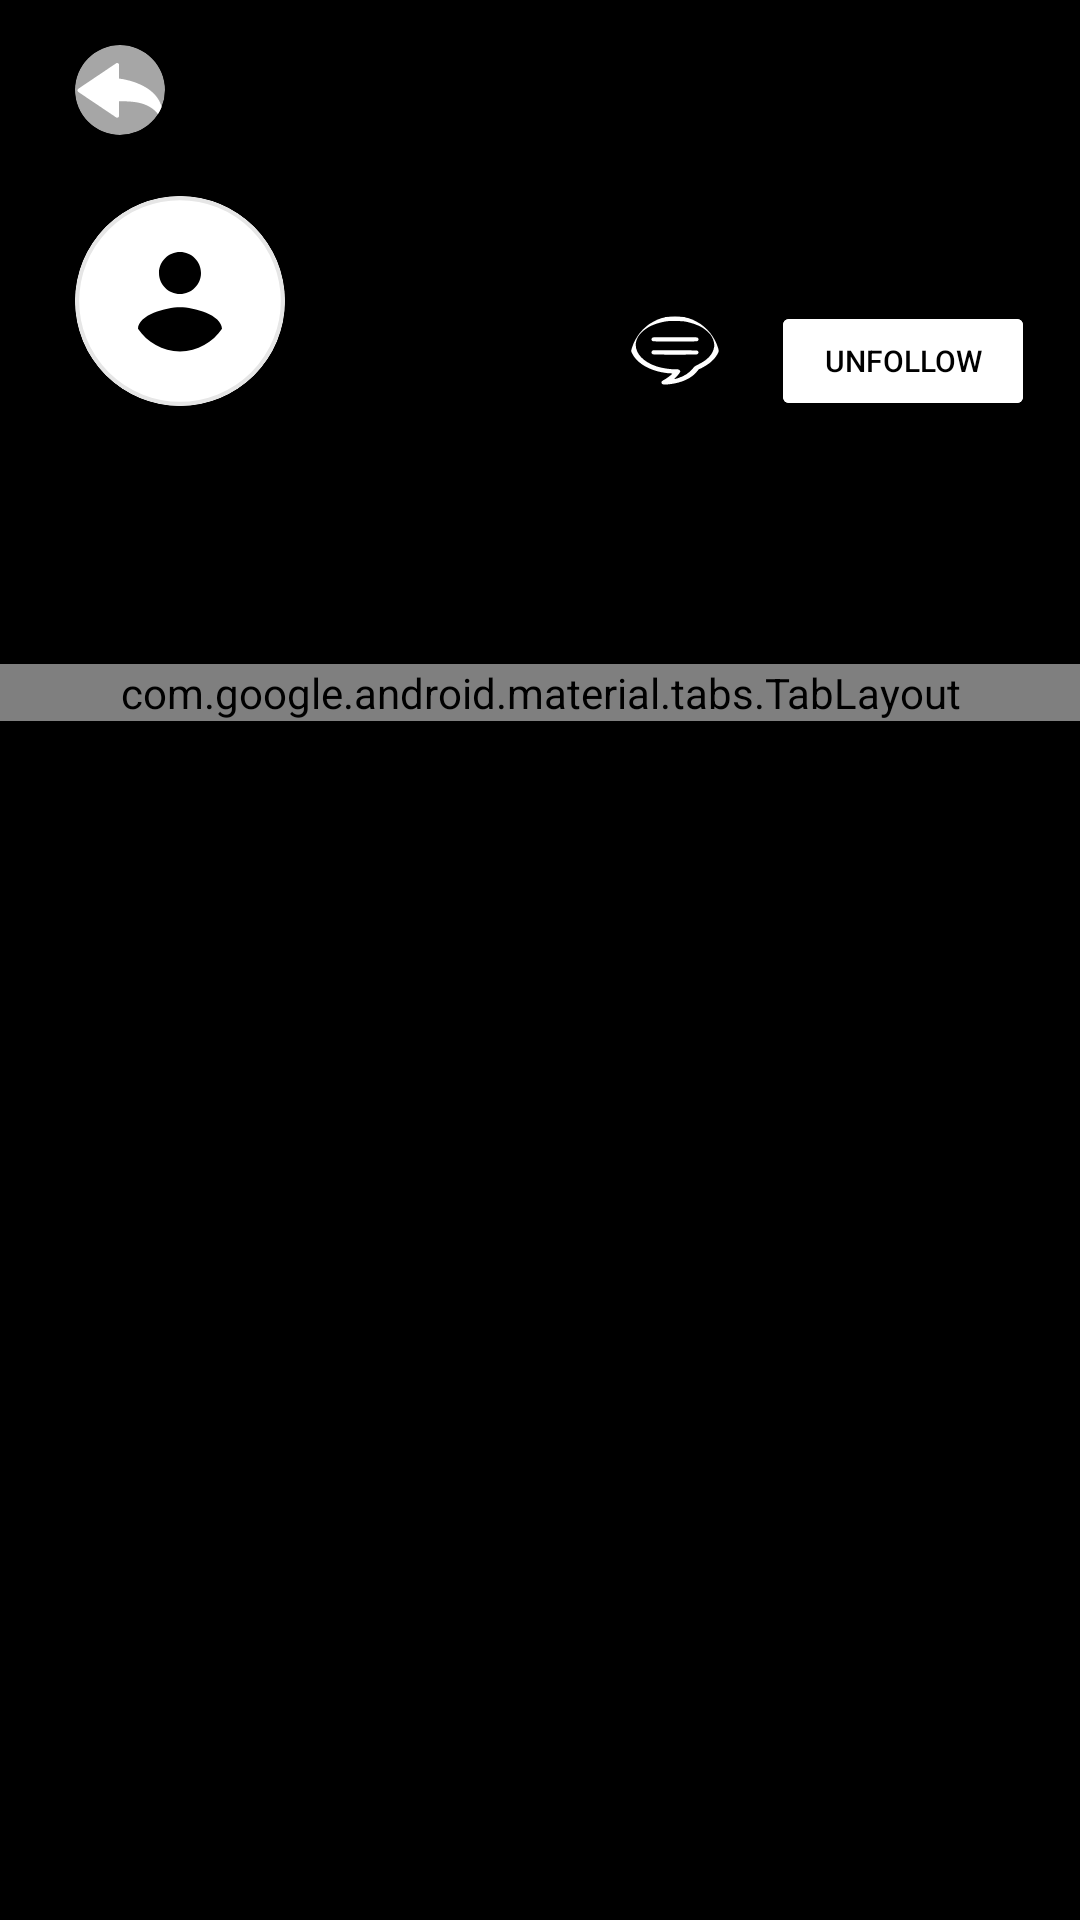

Icon click points for this 1080px×1920px phone screenshot, format (x=x, y=y):
back arrow: (x=120, y=90)
place holder user: (x=180, y=301)
